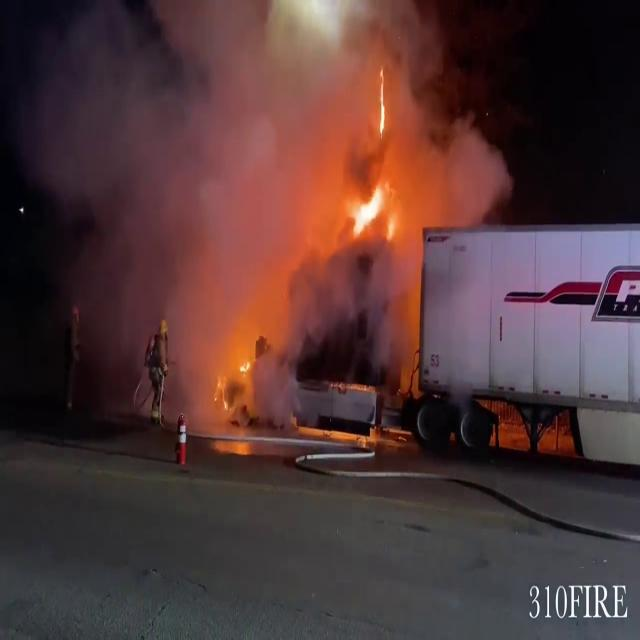Fire: (342, 94, 402, 245)
Smoke: (18, 0, 508, 401)
